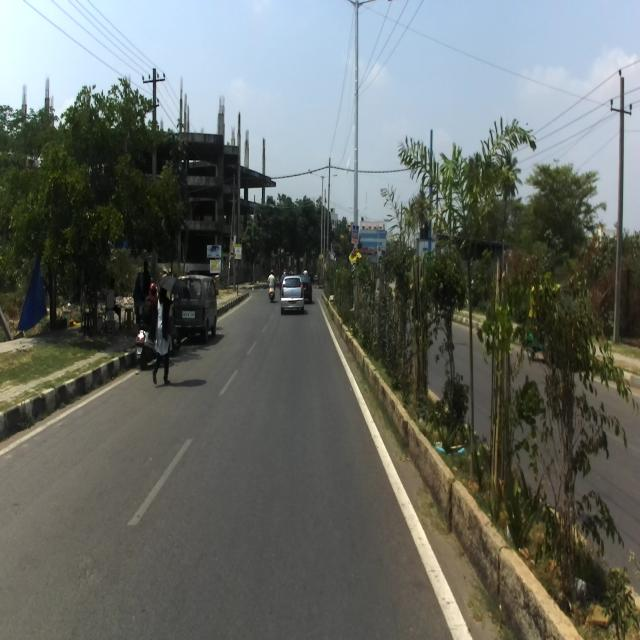car ahead at: (178, 273, 220, 344)
person ahead at: (149, 281, 172, 388)
